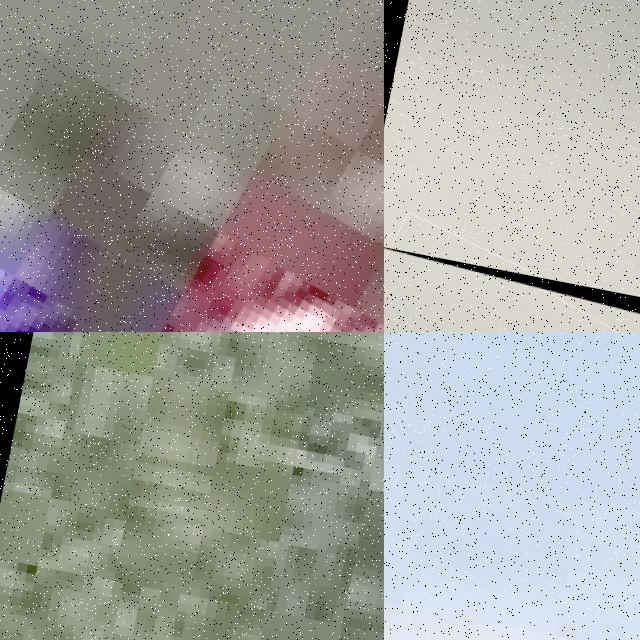0: (0, 0, 384, 332)
drone: (384, 243, 640, 332)
